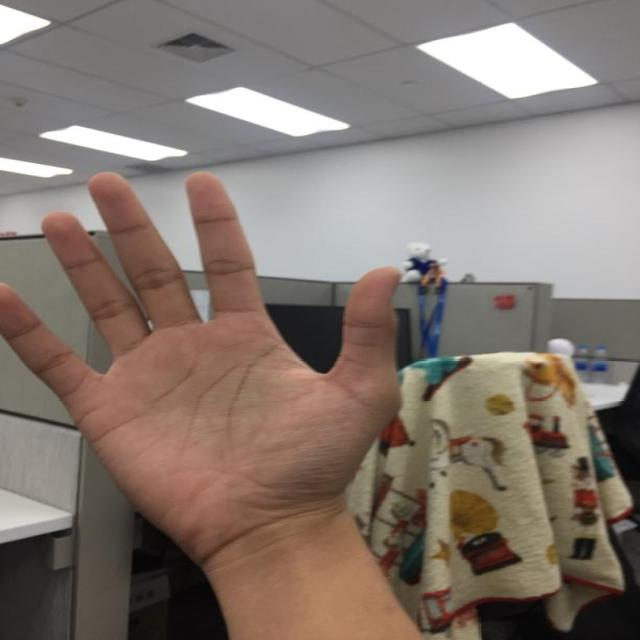hand: (0, 173, 406, 545)
